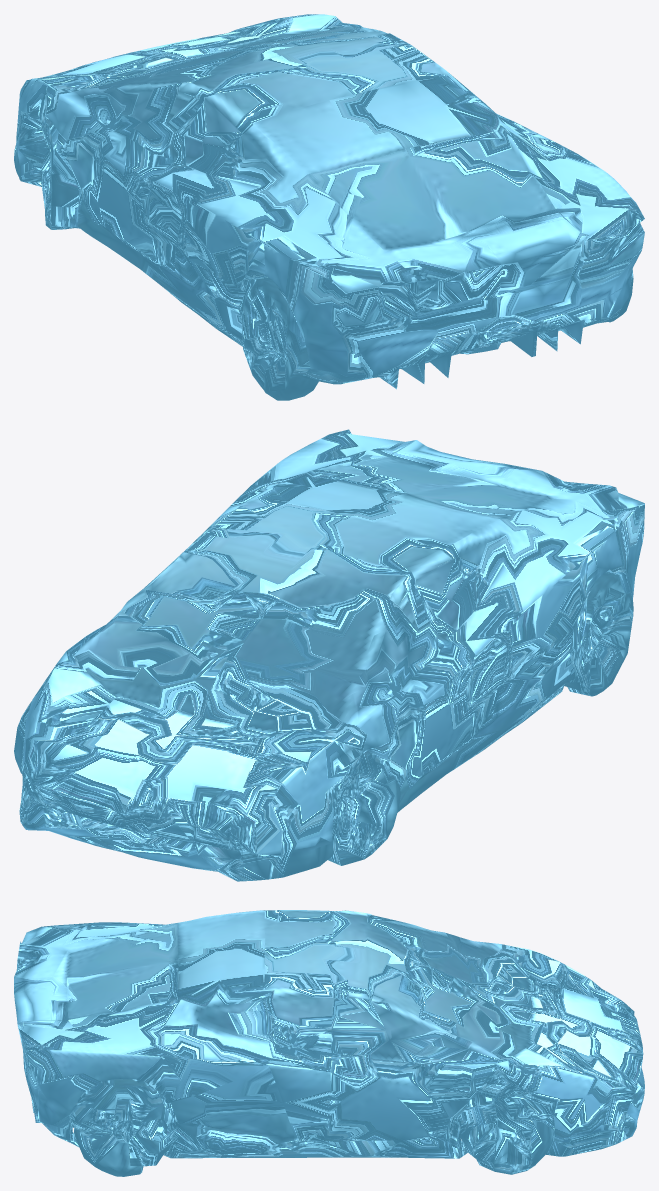
Rendered from skycar.far.glb.
3 renders of one model, top to bottom at view 1: azimuth 30°, elevation 25°; view 2: azimuth 150°, elevation 25°; view 3: azimuth 270°, elevation 25°, orthographic. The views are drawn at different scales.
Parts seen in each view (by area): view 1: tripo_node_a3d89100-53b6-4e1c-afd6-ac07352b5506; view 2: tripo_node_a3d89100-53b6-4e1c-afd6-ac07352b5506; view 3: tripo_node_a3d89100-53b6-4e1c-afd6-ac07352b5506.
Boxes of the visible parts, bbox=[...] form: tripo_node_a3d89100-53b6-4e1c-afd6-ac07352b5506: bbox=[14, 14, 644, 400]; tripo_node_a3d89100-53b6-4e1c-afd6-ac07352b5506: bbox=[14, 429, 644, 881]; tripo_node_a3d89100-53b6-4e1c-afd6-ac07352b5506: bbox=[14, 910, 644, 1176].
Bounding box in the file's own units: 2.23 × 1.26 × 4.29.
1 material, 1 textured.
